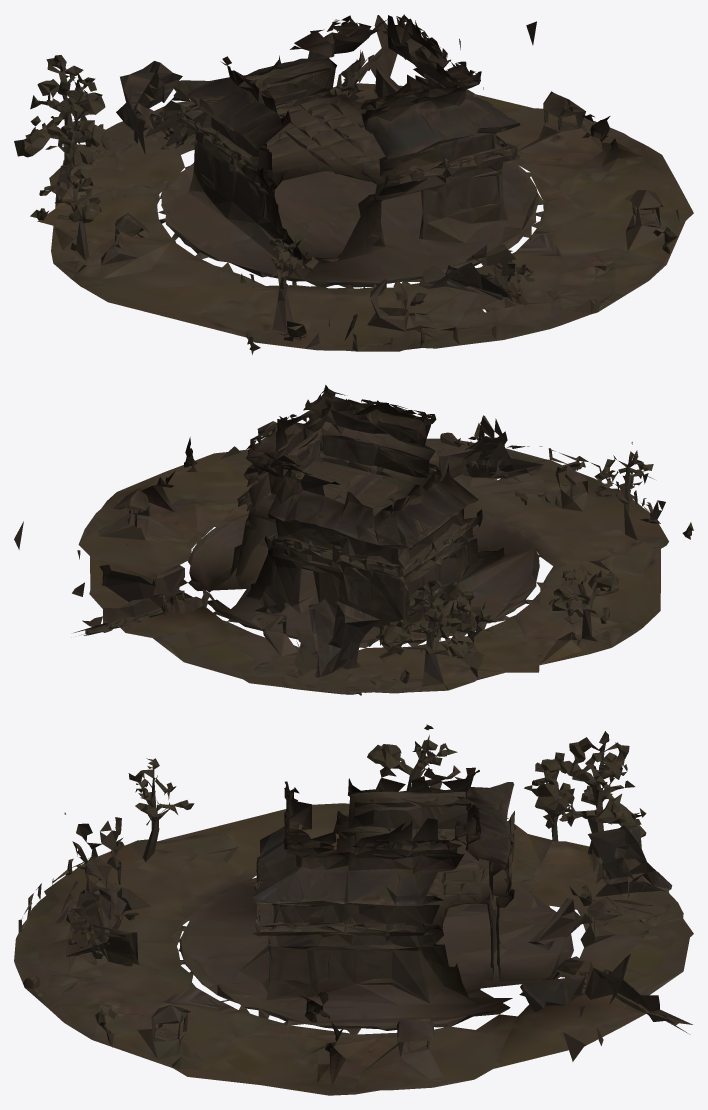
File: keep_large_destroyed.glb
3 views of the same model, one above another, from view 1: azimuth 30°, elevation 25°; view 2: azimuth 150°, elevation 25°; view 3: azimuth 270°, elevation 25° (orthographic). The views are drawn at different scales.
Bounding box in the file's own units: 1.89 × 0.5019 × 1.84.
1 material, 1 textured.
